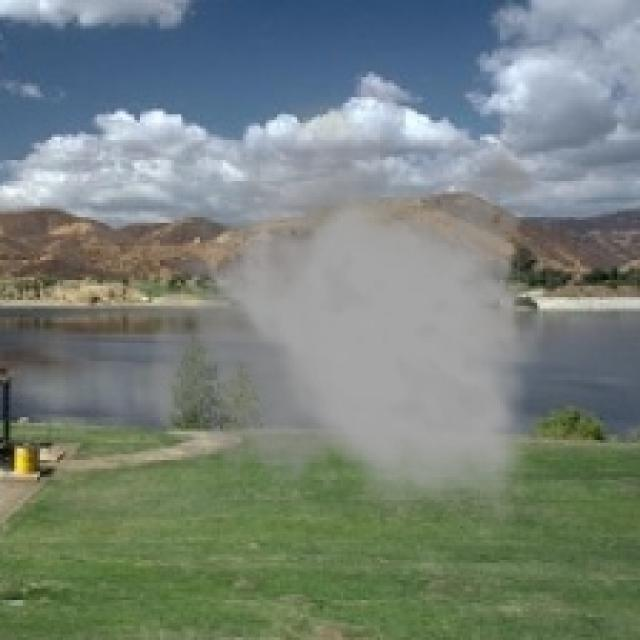smoke: (143, 100, 548, 523)
